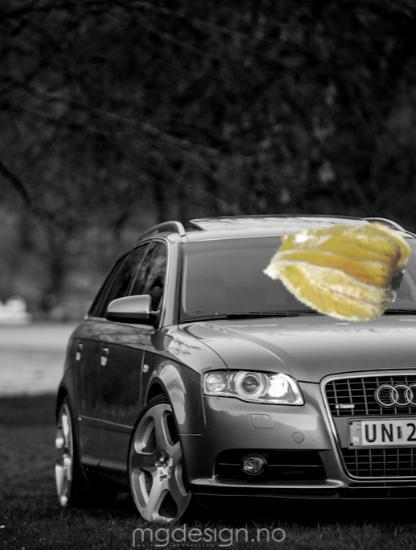Physalis: (269, 195, 404, 330)
